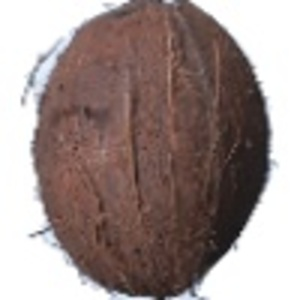coco: (23, 1, 279, 300)
